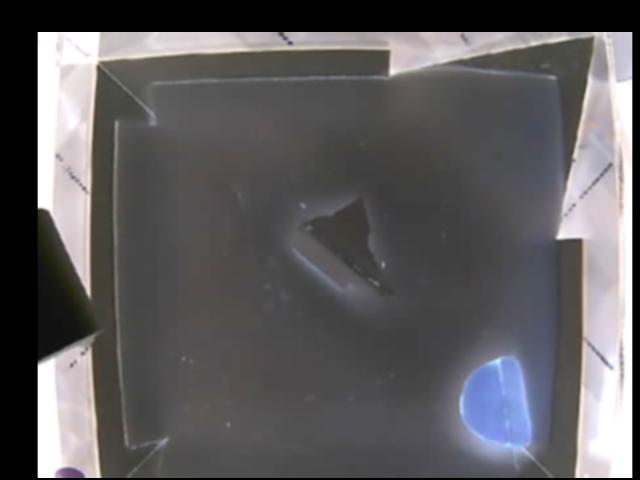China: (290, 195, 393, 304)
Potato: (459, 354, 533, 446)
